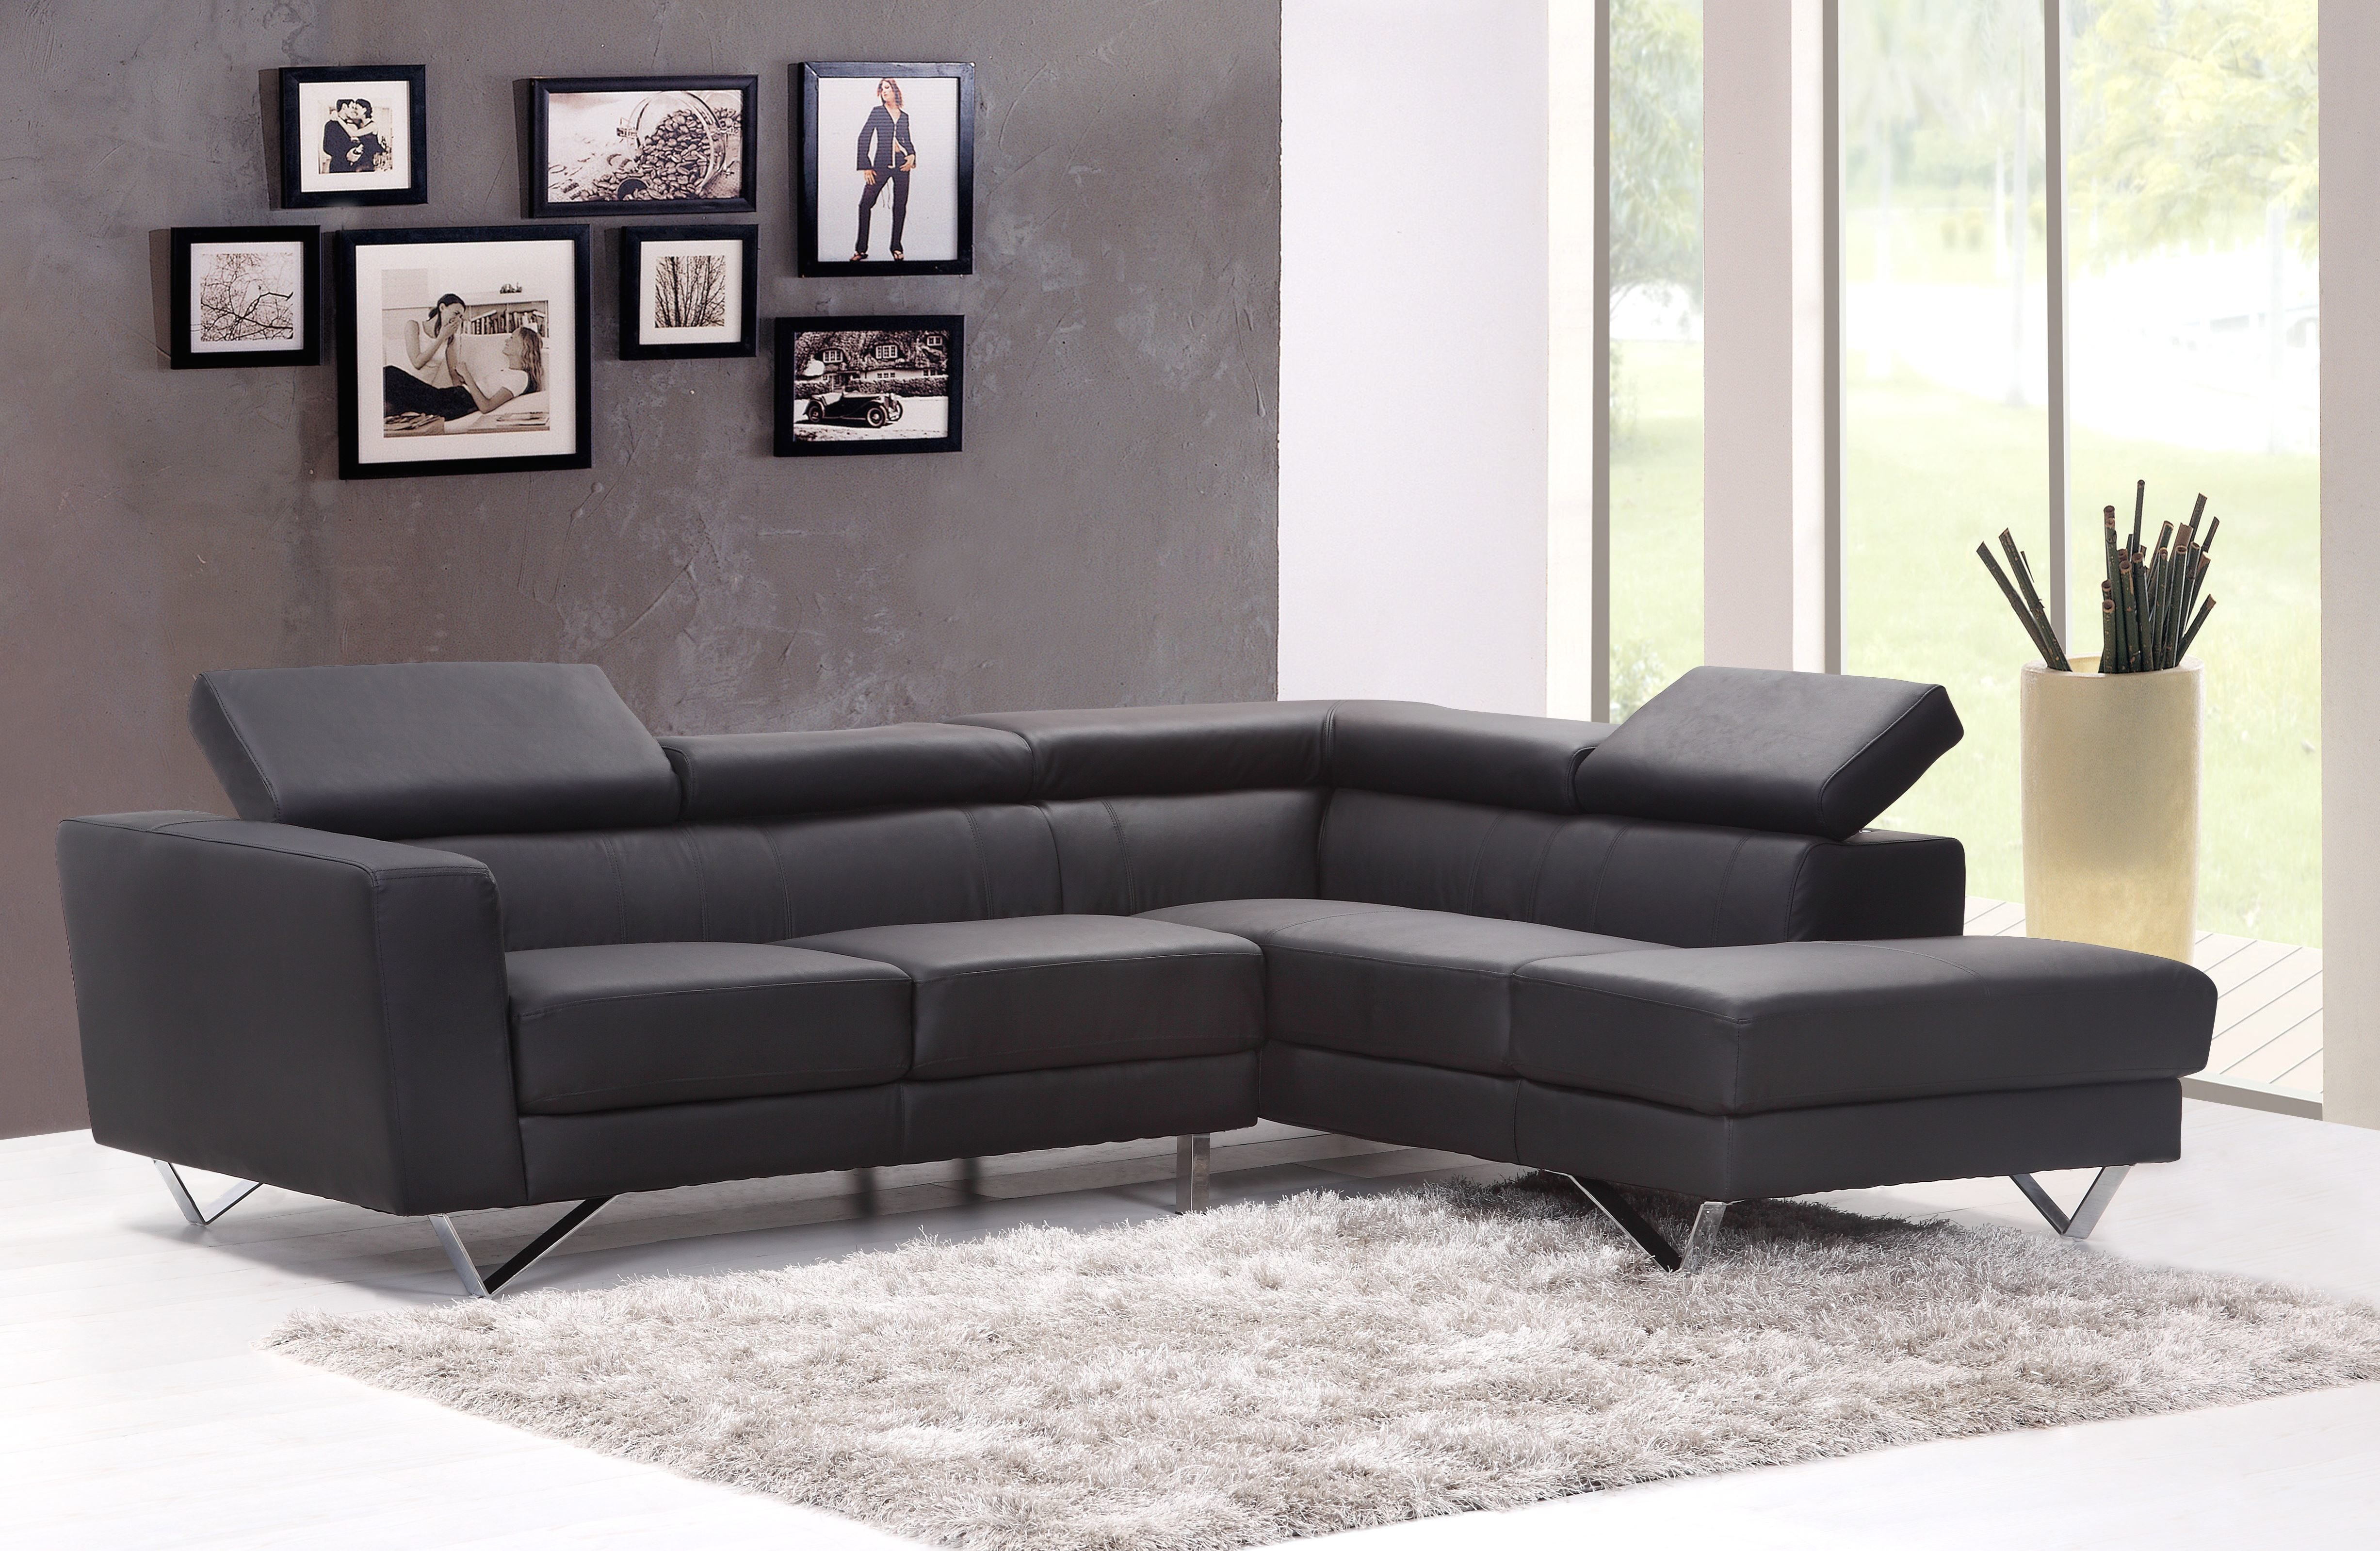chairs: (43, 630, 2217, 1298)
